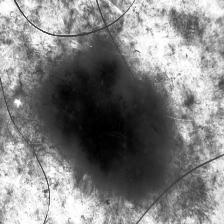Benign Marking or Mole: (36, 56, 182, 195)
